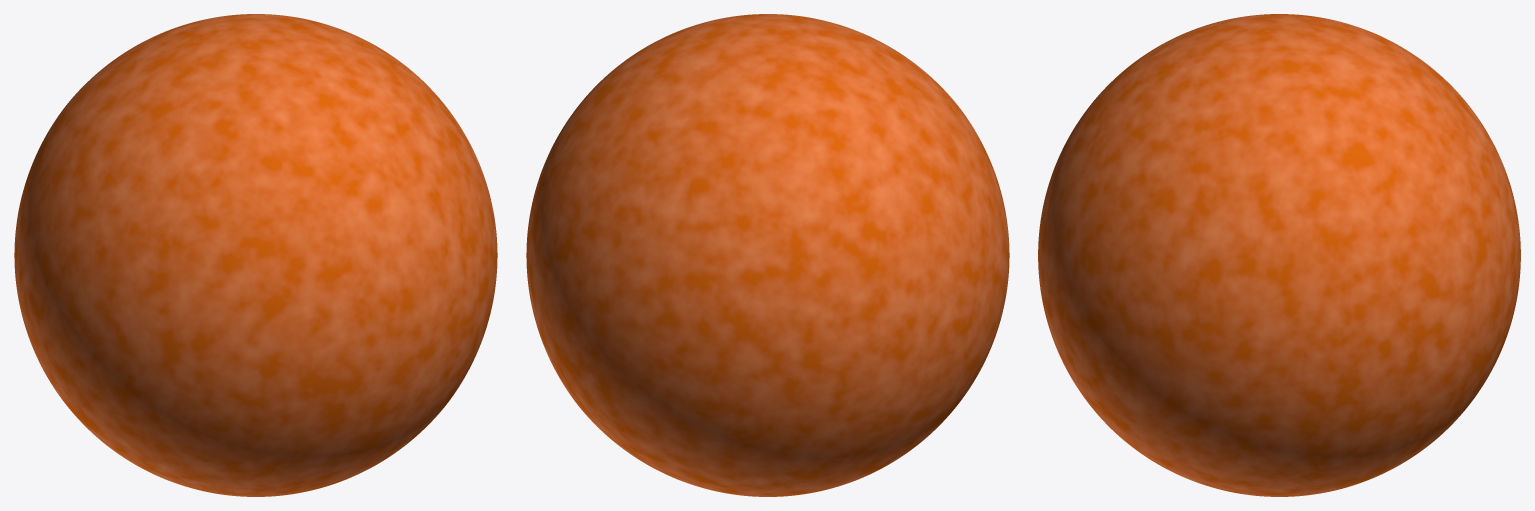
Rendered from PlanetForUnity.fbx.
3 renders of one model, left to right at view 1: azimuth 30°, elevation 25°; view 2: azimuth 150°, elevation 25°; view 3: azimuth 270°, elevation 25°, orthographic.
Visible parts, largest first — view 1: Cube; view 2: Cube; view 3: Cube.
Boxes of the visible parts, x1=… form: Cube: x1=14, y1=14, x2=497, y2=496; Cube: x1=526, y1=14, x2=1009, y2=496; Cube: x1=1038, y1=14, x2=1520, y2=496.
Size of the model in its own units: 171 by 171 by 171.
